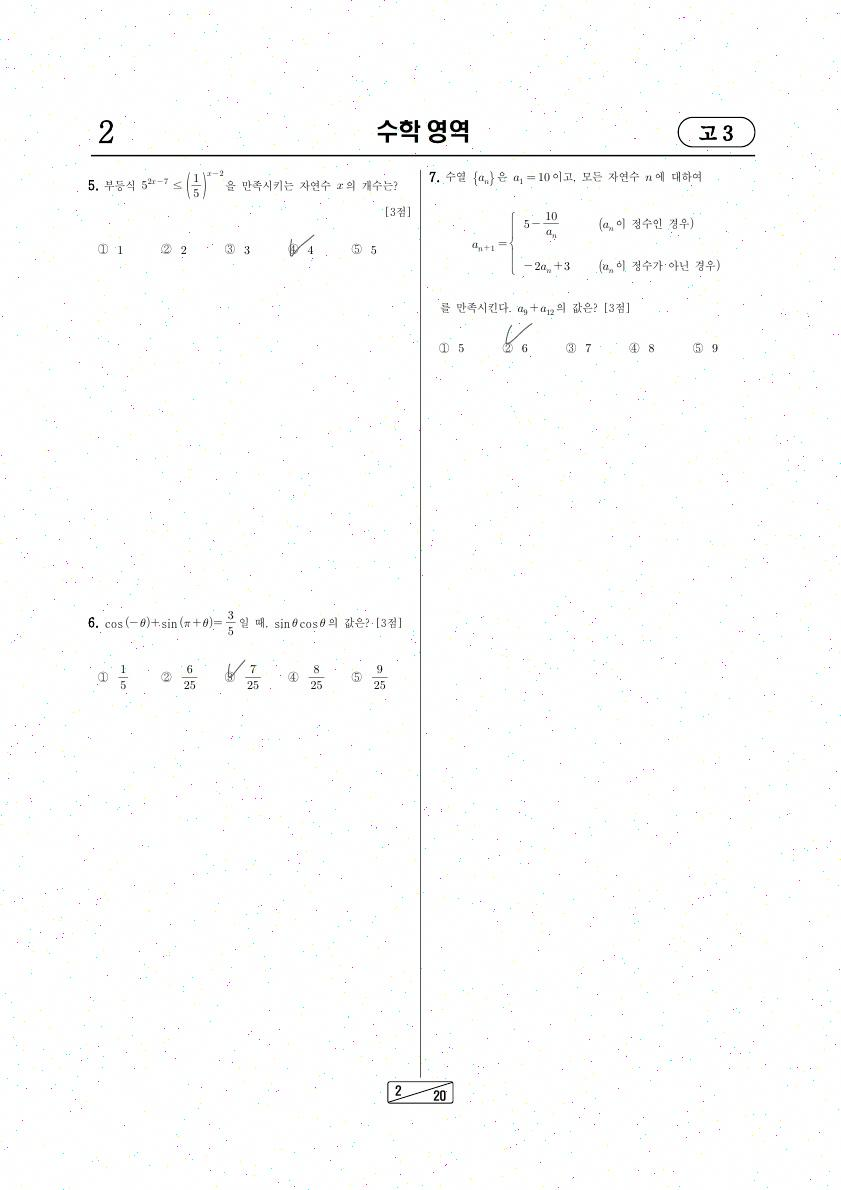question: (418, 158, 740, 373), (70, 162, 420, 272), (63, 605, 410, 713)
